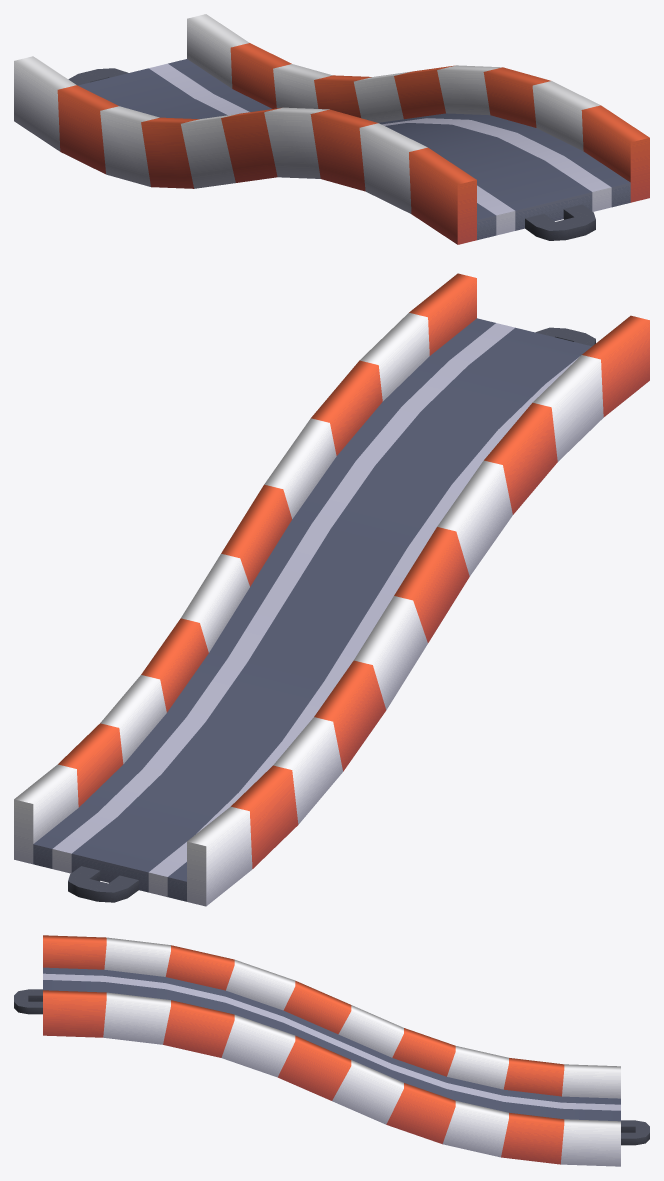
Rendered from track_road_narrow_straight_hill_complete.glb.
3 renders of one model, top to bottom at view 1: azimuth 30°, elevation 25°; view 2: azimuth 150°, elevation 25°; view 3: azimuth 270°, elevation 25°, orthographic. The views are drawn at different scales.
Parts seen in each view (by area): view 1: track-road-narrow-straight-hill-complete; view 2: track-road-narrow-straight-hill-complete; view 3: track-road-narrow-straight-hill-complete.
Part boxes in pixels (bbox=[...]): track-road-narrow-straight-hill-complete: bbox=[14, 14, 649, 244]; track-road-narrow-straight-hill-complete: bbox=[14, 273, 649, 906]; track-road-narrow-straight-hill-complete: bbox=[14, 935, 649, 1166].
Size of the model in its own units: 1 by 1.3 by 4.4.
Materials: 1 (1 with a texture image).
